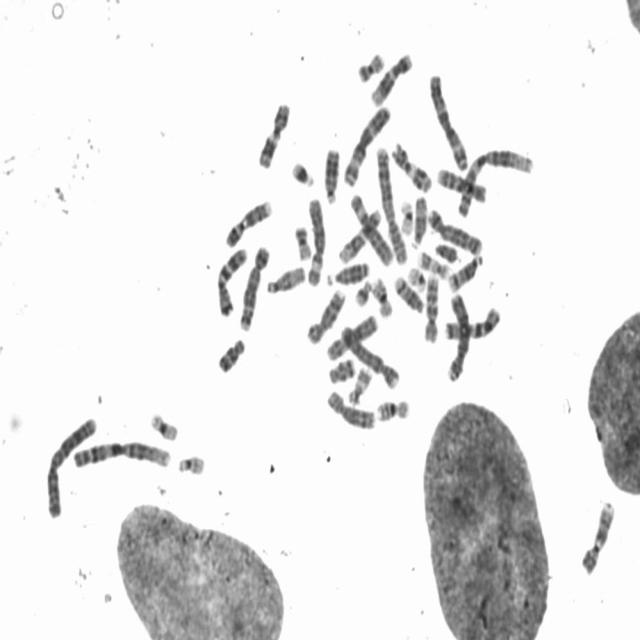A1: (453, 143, 537, 219), (69, 434, 174, 471)
A2: (43, 411, 99, 519), (374, 140, 409, 266)
A3: (340, 99, 393, 187), (426, 67, 470, 172)
B4: (338, 320, 401, 391), (442, 286, 472, 383)
B5: (236, 239, 272, 333), (424, 203, 484, 255)
C10: (434, 162, 489, 205), (420, 269, 441, 345)
C11: (255, 96, 292, 171), (388, 136, 433, 194)
C12: (336, 202, 384, 264), (368, 46, 414, 108)
C6: (347, 187, 396, 268), (304, 192, 328, 288)
C7: (213, 242, 250, 318), (441, 300, 502, 342)
C8: (304, 284, 347, 346), (324, 384, 378, 431)
C9: (578, 496, 616, 576), (223, 195, 274, 249)
D13: (323, 256, 371, 286), (321, 142, 342, 204)
D14: (446, 250, 485, 293), (391, 270, 426, 315)
D15: (263, 259, 307, 296), (408, 190, 429, 250)
E16: (369, 272, 395, 319), (373, 393, 412, 422)
E17: (414, 245, 452, 280), (344, 362, 374, 405)
E18: (215, 332, 247, 374), (325, 352, 357, 384)
F19: (147, 407, 180, 443), (397, 194, 415, 236)
F20: (354, 46, 386, 84), (292, 220, 314, 262)
G21: (288, 156, 316, 189), (352, 275, 374, 307)
G22: (174, 448, 207, 476), (404, 261, 428, 293)
X: (324, 309, 379, 362)
Y: (432, 237, 460, 265)
